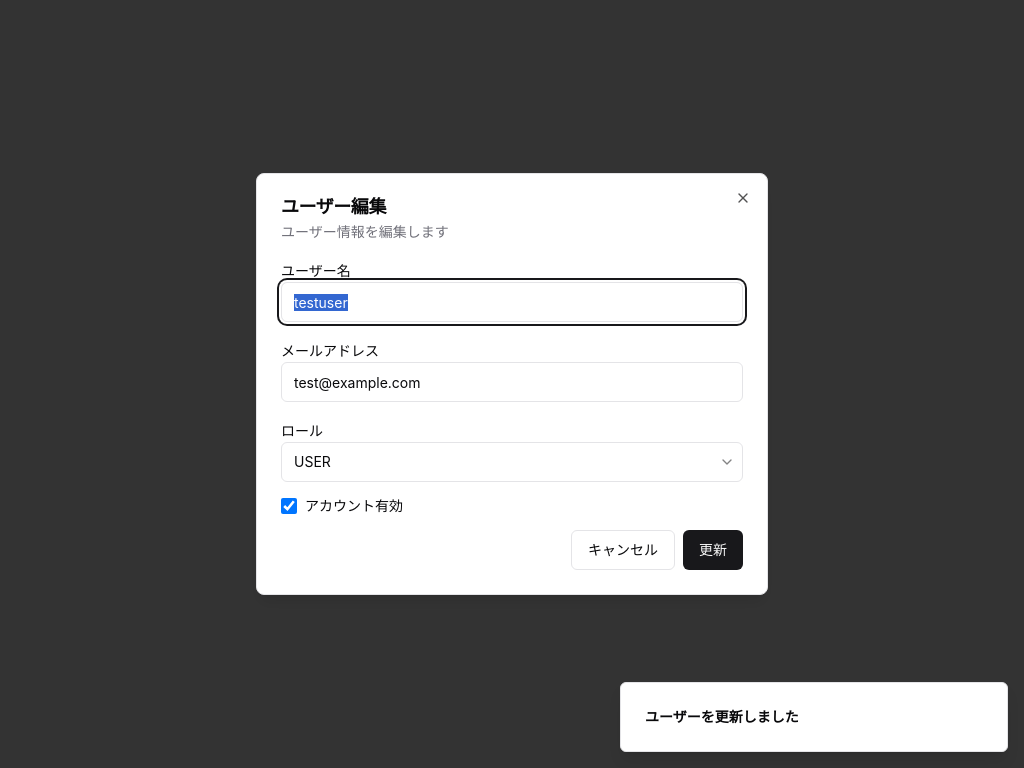
it: UserFormDialog: 編集モード › 更新失敗 → エラートーストを表示する
The width and height of the screenshot is (1024, 768).
Click the button "更新" at (713, 550), box [683,530,743,570]
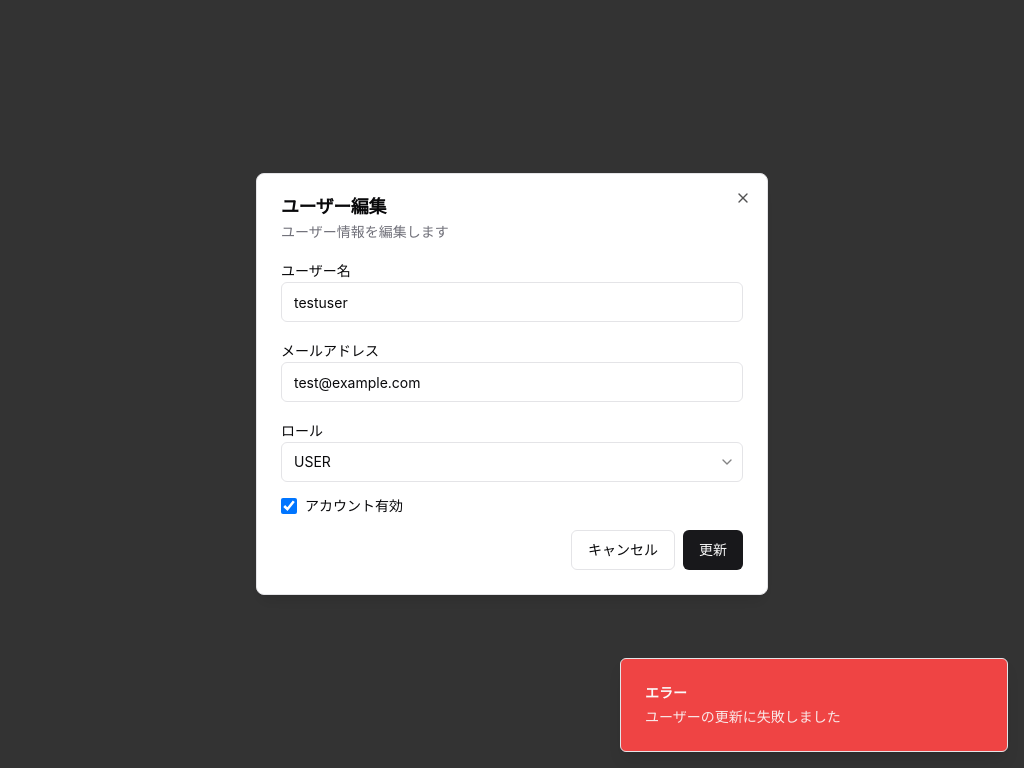
Expected: the text "ユーザーの更新に失敗しました" is shown, [645,707,841,727]
